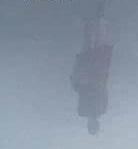person: (71, 16, 115, 135)
